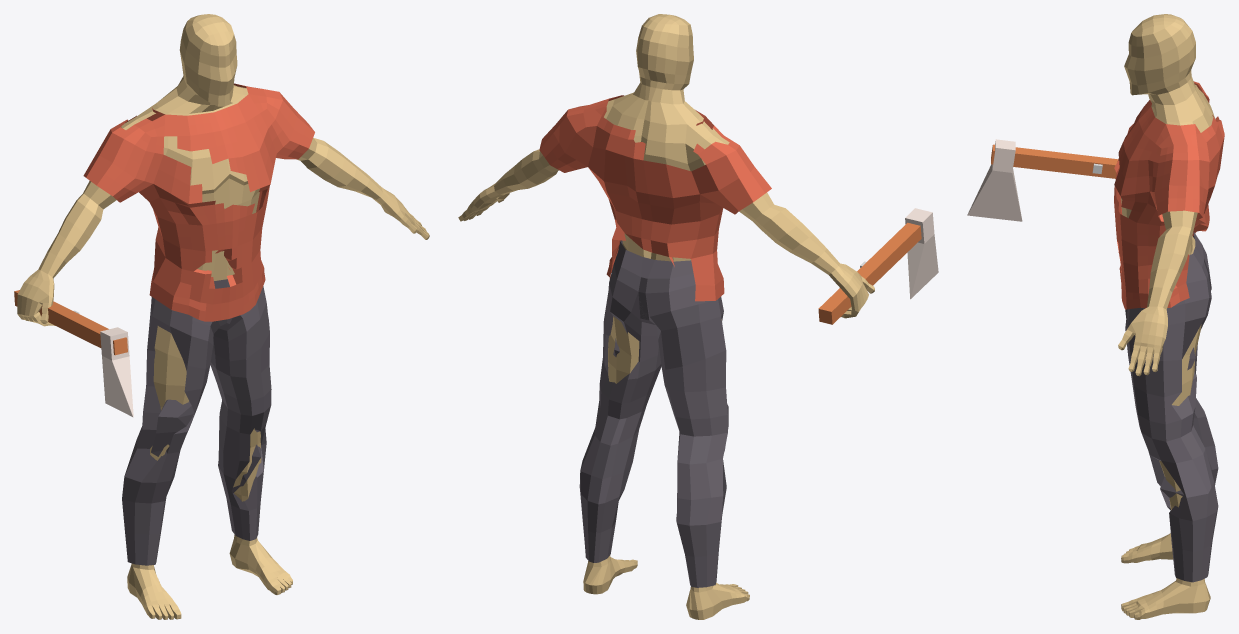
File: ДРОВОСЕК.fbx
The picture shows the model from 3 angles, left to right: view 1: azimuth 30°, elevation 25°; view 2: azimuth 150°, elevation 25°; view 3: azimuth 270°, elevation 25°; orthographic projection.
Parts seen in each view (by area): view 1: Body.001, Body, Body.002, Cube.005, Cube.001; view 2: Body.002, Body, Body.001, Cube.001, Cube.005; view 3: Body, Body.002, Body.001, Cube.005, Cube.001.
Boxes of the visible parts, <box> form: Body.001: <box>83,83,314,321</box>; Body: <box>17,14,429,619</box>; Body.002: <box>122,279,271,565</box>; Cube.005: <box>100,327,133,417</box>; Cube.001: <box>14,290,127,355</box>; Body.002: <box>579,240,728,587</box>; Body: <box>458,14,874,619</box>; Body.001: <box>539,95,771,301</box>; Cube.001: <box>818,222,921,324</box>; Cube.005: <box>905,208,938,299</box>; Body: <box>1118,14,1215,619</box>; Body.002: <box>1125,232,1218,582</box>; Body.001: <box>1114,81,1224,309</box>; Cube.005: <box>967,139,1022,221</box>; Cube.001: <box>991,144,1118,178</box>.
Bounding box in the file's own units: 135 × 184 × 75.54.
